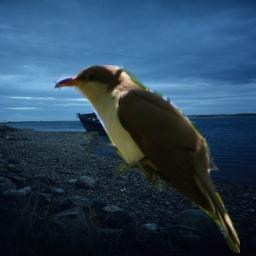Cuckoo: (50, 65, 240, 254)
